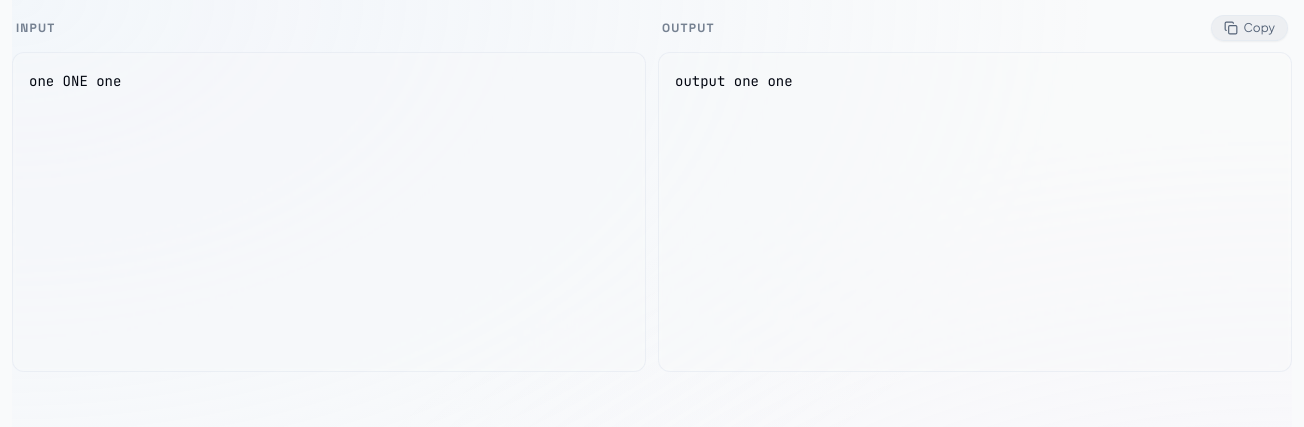
Test: ToolIoPanels find and replace › resets navigation after query, toggle, and manual Input changes
Press f
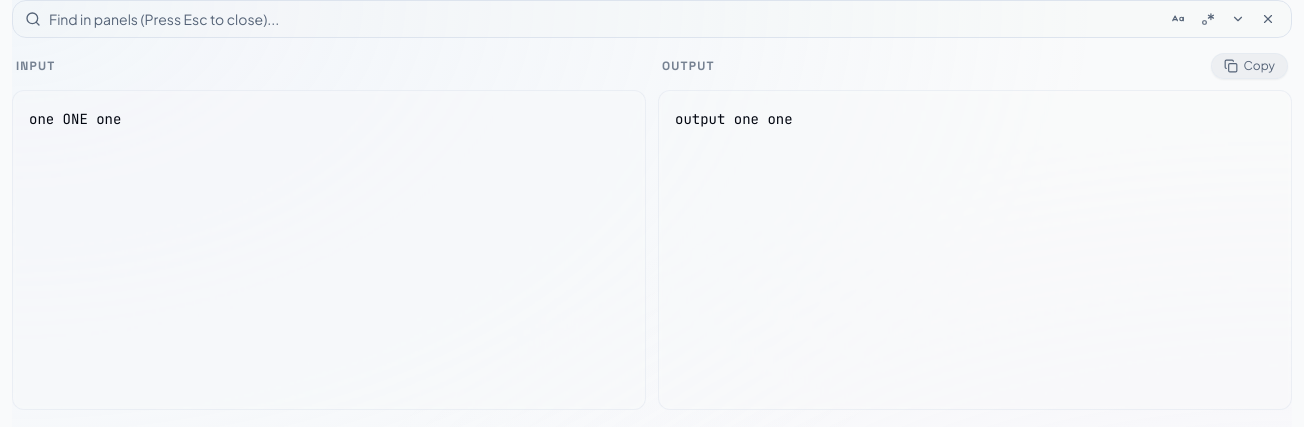
Type "one" into the field labelled "Find in panels" at (604, 19), box [49,7,1159,31]
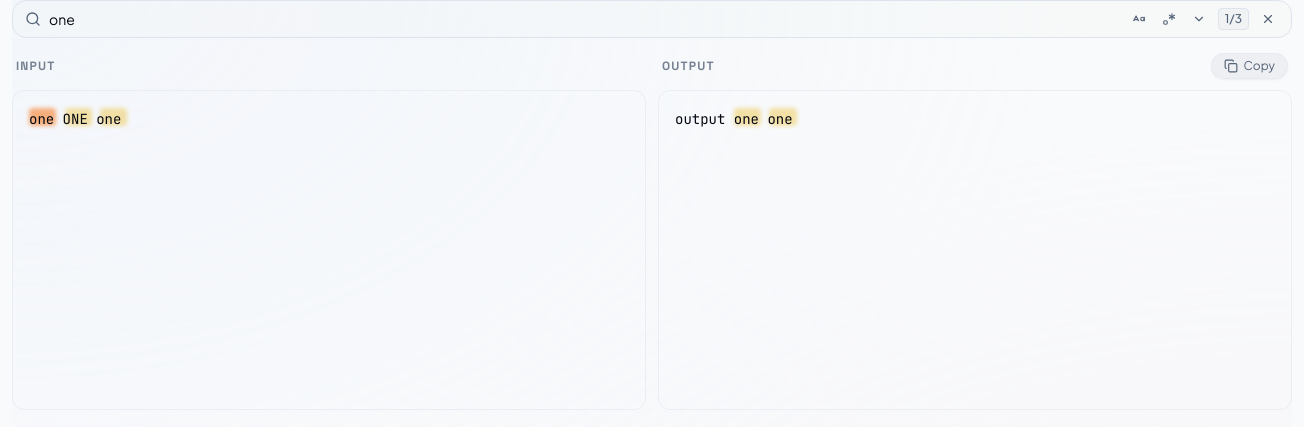
Press Enter in the field named "Find in panels", box [49,7,1120,31]
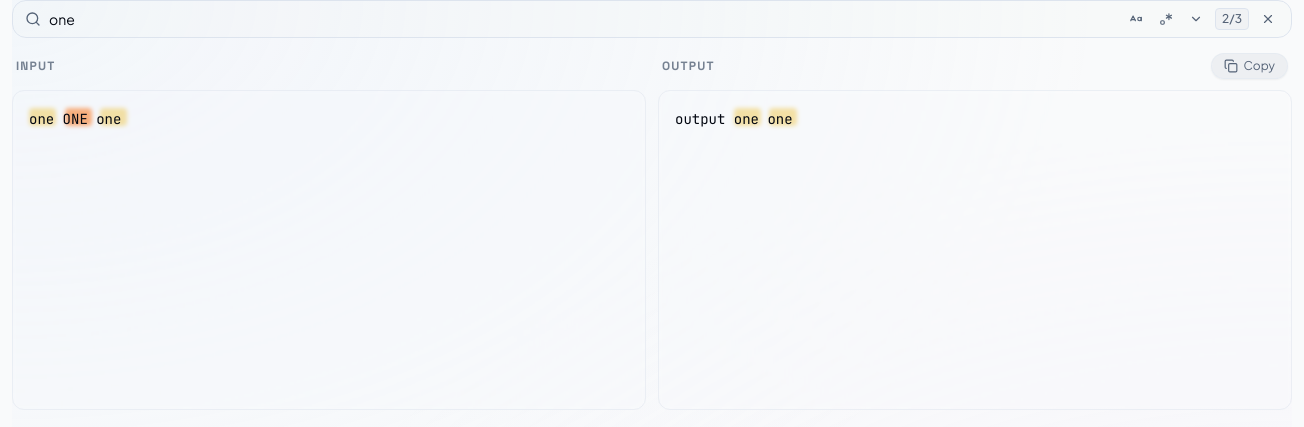
Now the text "2/3" is shown, box [1215,8,1249,30]
Click the button named "Match case" at (1136, 19), box [1125,8,1147,30]
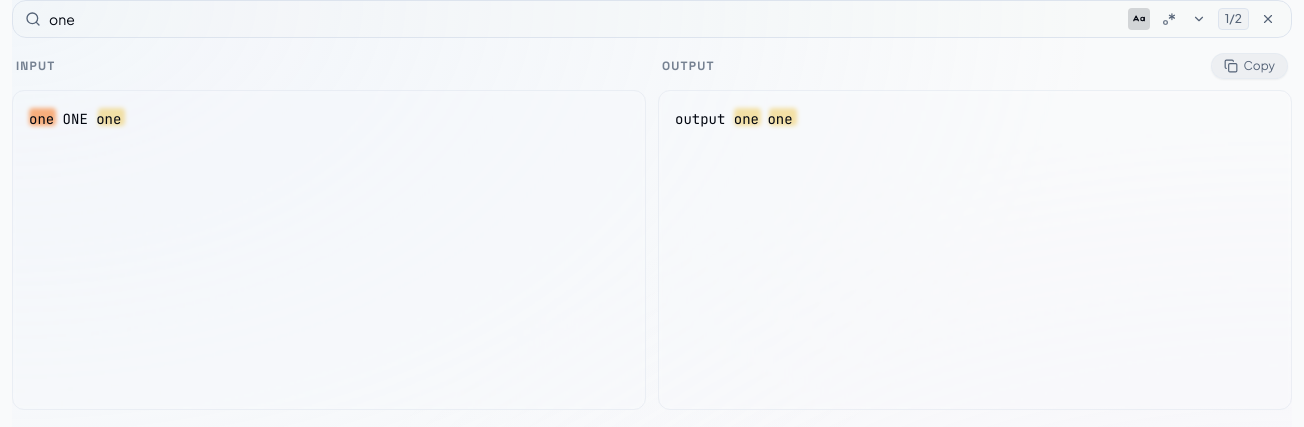
Now the text "1/2" is shown, box [1218,8,1249,30]
Replace the text in the field named "Find in panels" with "ONE" at (584, 19), box [49,7,1120,31]
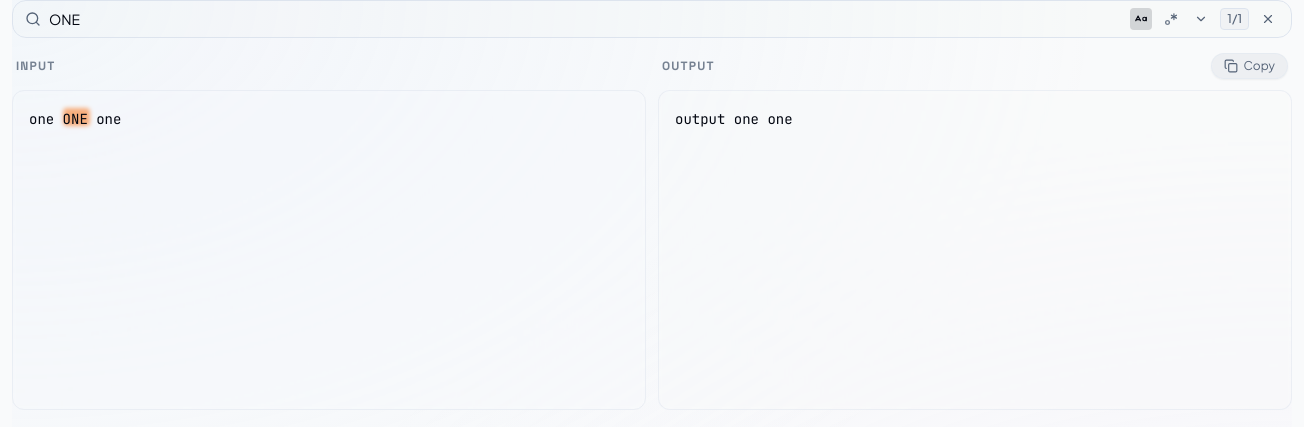
Now the text "1/1" is shown, box [1220,8,1249,30]
Replace the text in the text box below "Input" with "ONE ONE" at (329, 250), box [12,90,646,410]
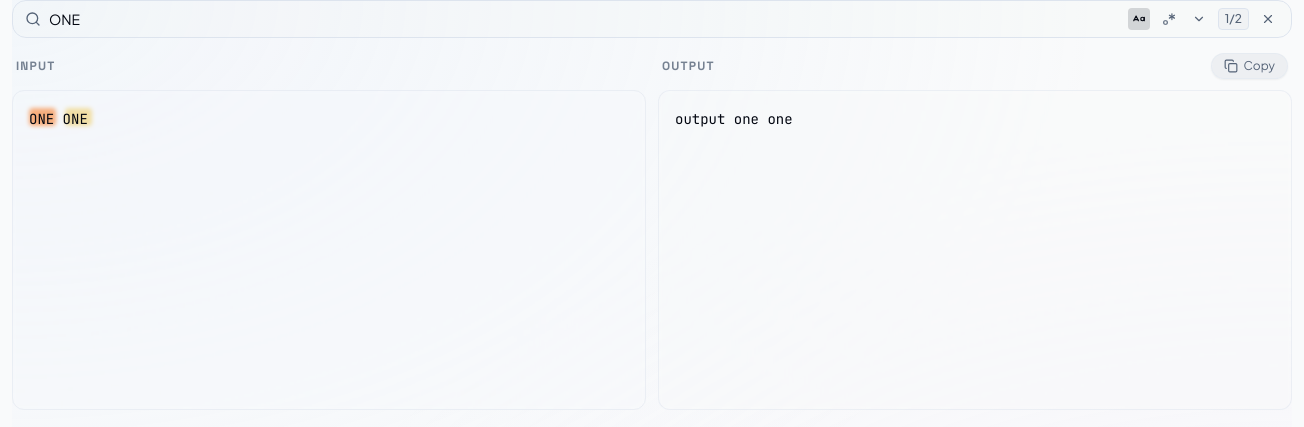
Now the text "1/2" is shown, box [1218,8,1249,30]
